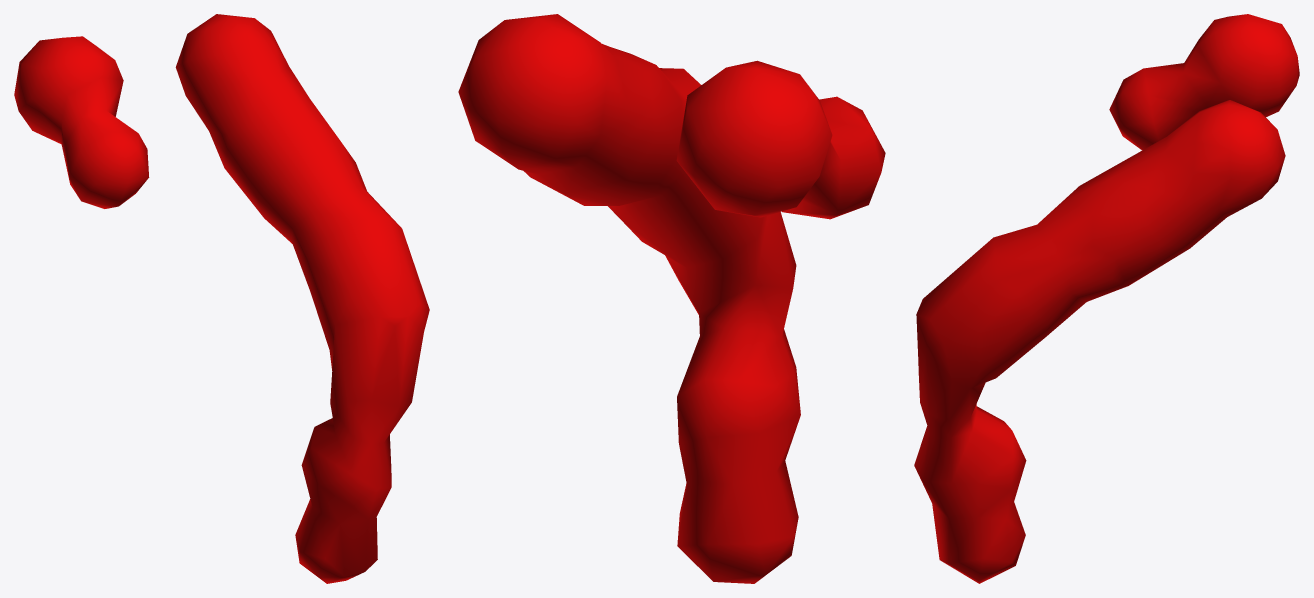
File: SM_Morve.fbx
The picture shows the model from 3 angles, left to right: view 1: azimuth 30°, elevation 25°; view 2: azimuth 150°, elevation 25°; view 3: azimuth 270°, elevation 25°; orthographic projection. The views are drawn at different scales.
Visible parts, largest first — view 1: SM_Morve; view 2: SM_Morve; view 3: SM_Morve.
Boxes of the visible parts, left/top/right/bottom form: SM_Morve: left=14, top=14, right=429, bottom=583; SM_Morve: left=458, top=14, right=885, bottom=583; SM_Morve: left=914, top=14, right=1299, bottom=583.
Bounding box in the file's own units: 5.34 × 9.13 × 6.46.
